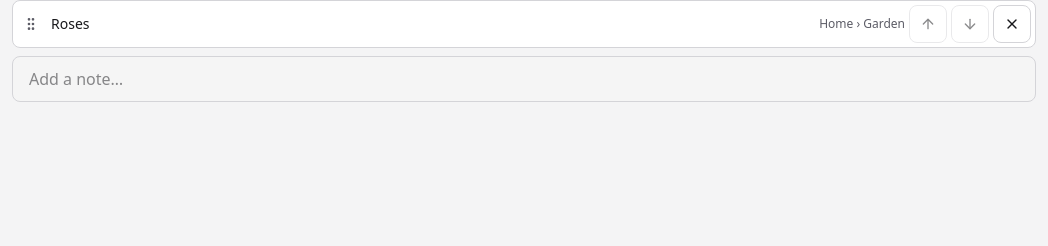
Test case: the note search › filters by title and category, ignoring accents, and hides chosen notes
Type "a" into the dropdown with placeholder "Add a note…" at (524, 79), box [12,56,1036,102]
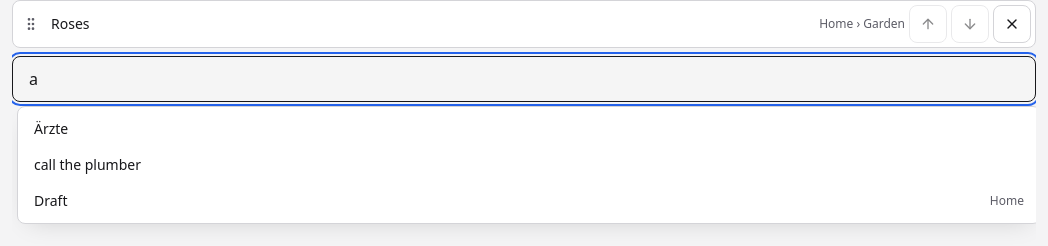
Replace the text in the dropdown with placeholder "Add a note…" with "arz" at (524, 79), box [12,56,1036,102]
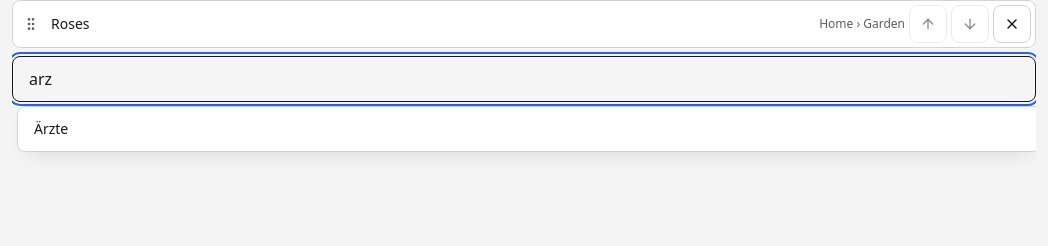
Replace the text in the dropdown with placeholder "Add a note…" with "home" at (524, 79), box [12,56,1036,102]
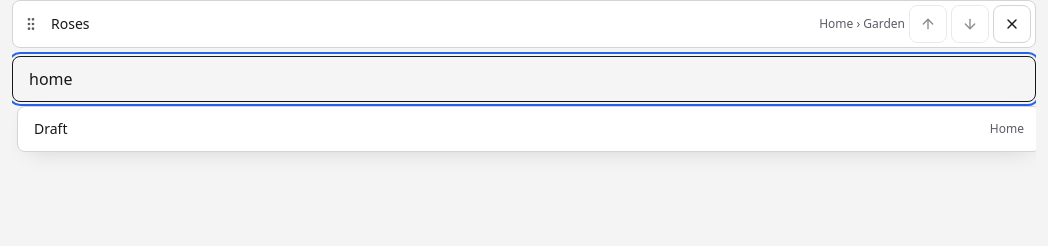
Replace the text in the dropdown with placeholder "Add a note…" with "nothing like it" at (524, 79), box [12,56,1036,102]
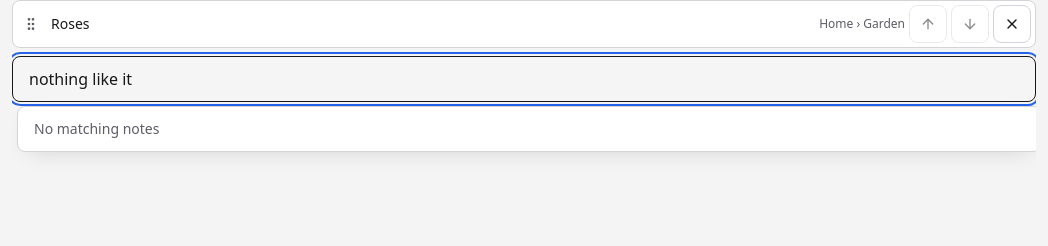
Now the text "No matching notes" is shown, box [34,119,159,138]
